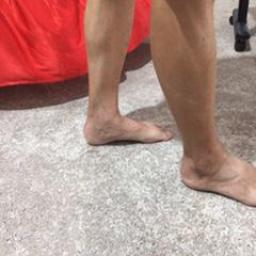Medial View -Left Foot-: (78, 101, 175, 157)
